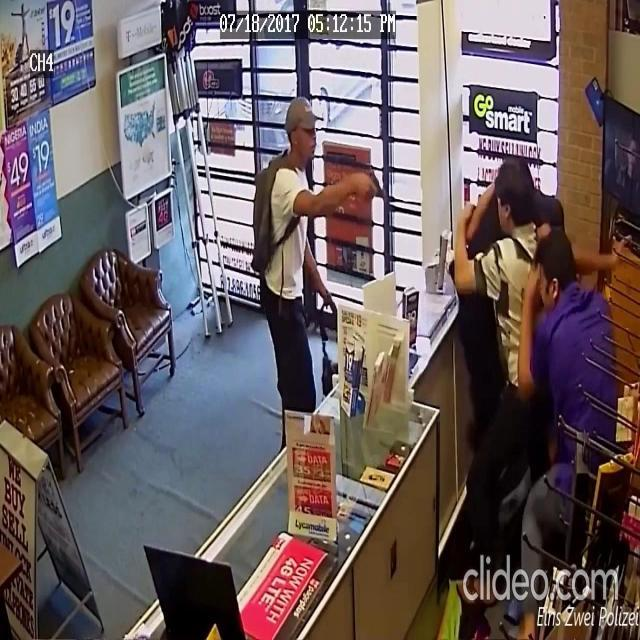pistol: (367, 166, 389, 203)
